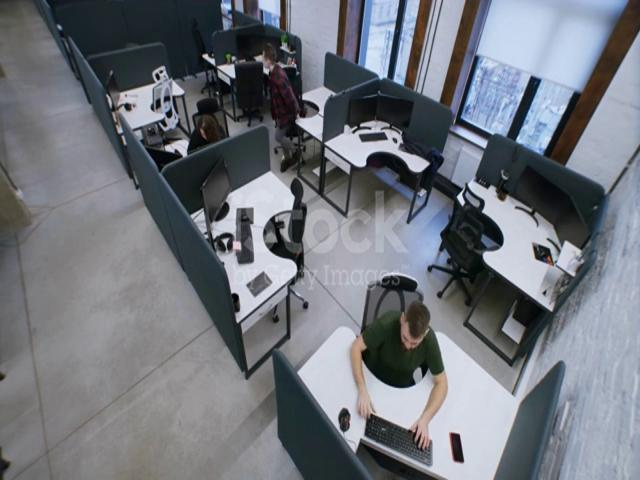empty chair: (456, 176, 482, 287), (145, 54, 180, 134), (184, 5, 216, 90), (286, 176, 306, 270), (234, 63, 263, 122), (284, 65, 300, 99)
occupiedchair: (368, 264, 458, 388), (179, 83, 236, 190)
